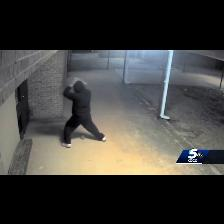person: (62, 78, 105, 147)
